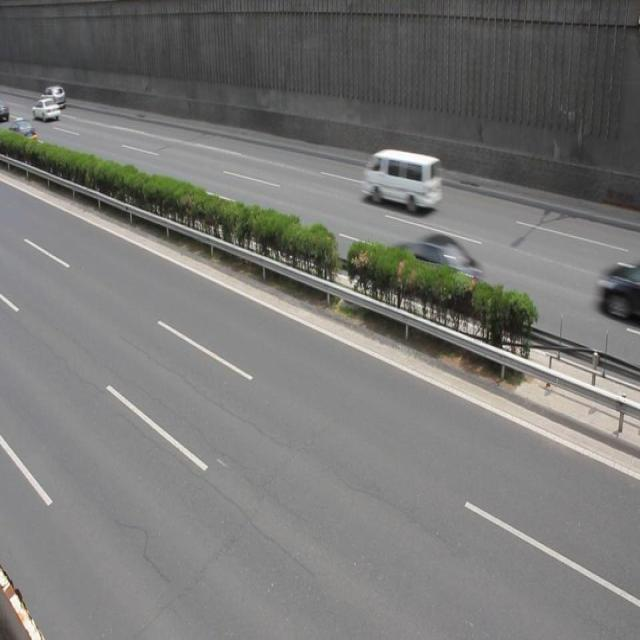car: (390, 229, 482, 320), (594, 260, 640, 324), (1, 118, 36, 150), (33, 95, 61, 121), (41, 84, 67, 110)
truck: (360, 147, 441, 211)
